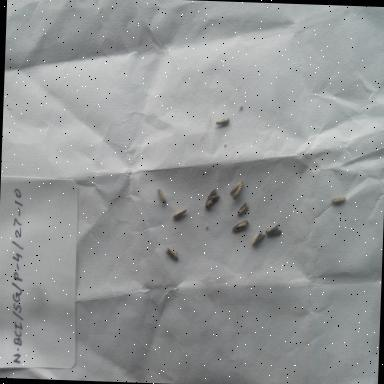pbw: (202, 188, 220, 209), (230, 216, 249, 234), (162, 245, 180, 264), (153, 185, 167, 206), (261, 222, 282, 236), (228, 180, 242, 200), (172, 203, 188, 220), (236, 199, 250, 217), (214, 115, 230, 128), (330, 196, 348, 207), (250, 232, 262, 248)
